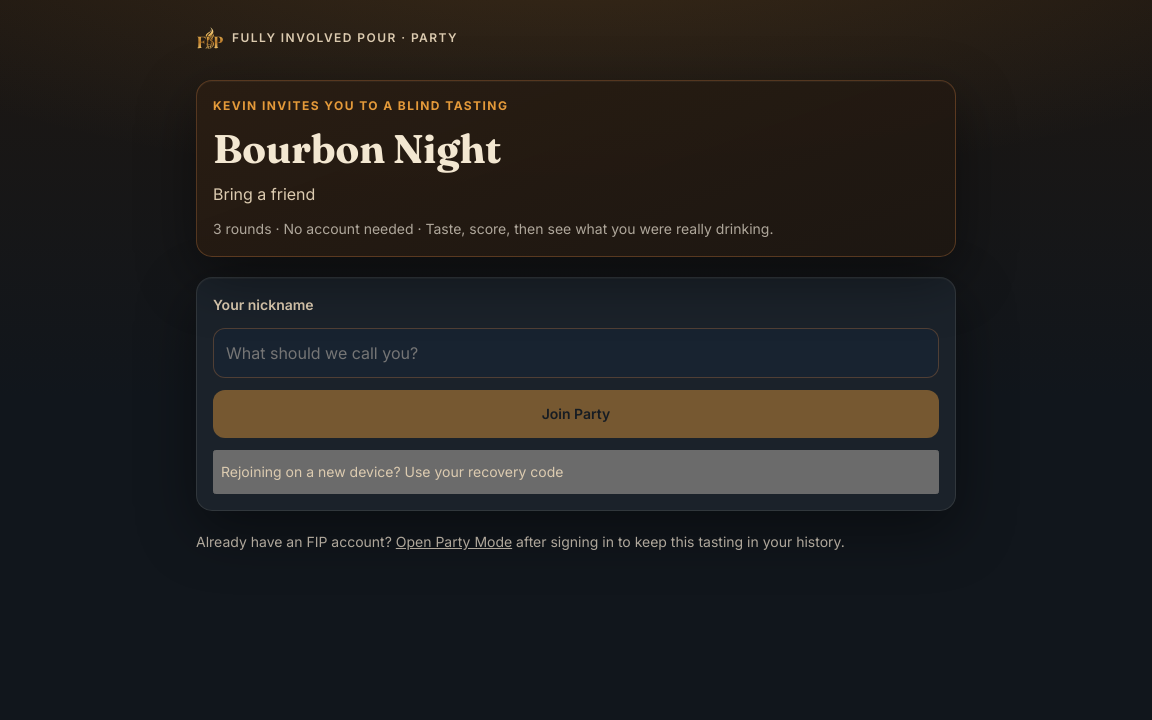
Scenario: JoinPartyPage (QR / invite link) › surfaces a duplicate nickname
Type "Sam" into the field labelled "Your nickname".
click(576, 353); type("Sam")  # box top-left (213, 328), bottom-right (939, 378)
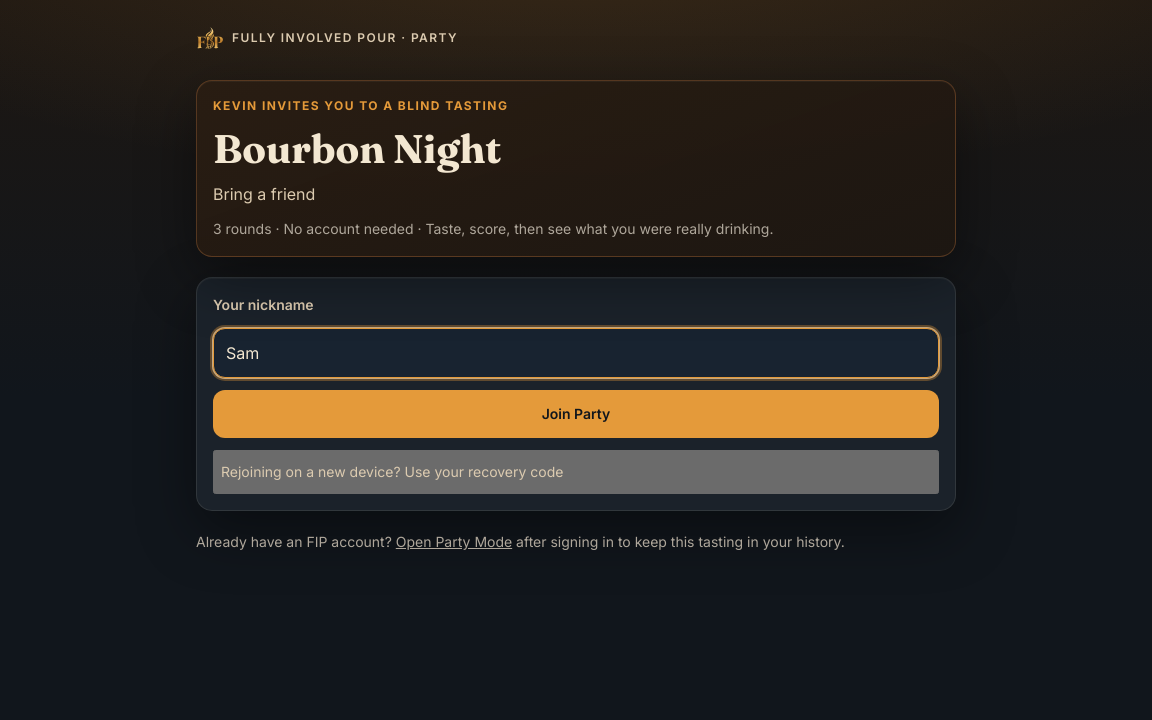
Click the button "Join Party".
click(576, 414)  # box top-left (213, 390), bottom-right (939, 438)
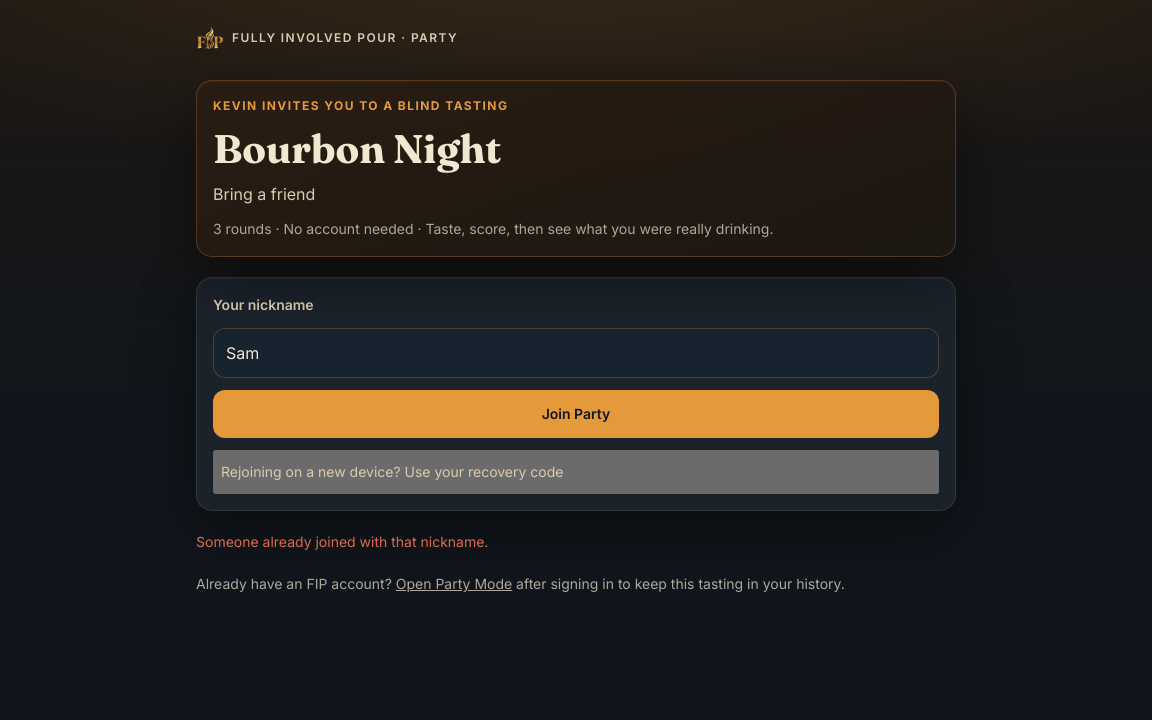
Expected: the message shows "already joined with that nickname", top-left (196, 533), bottom-right (488, 550)
